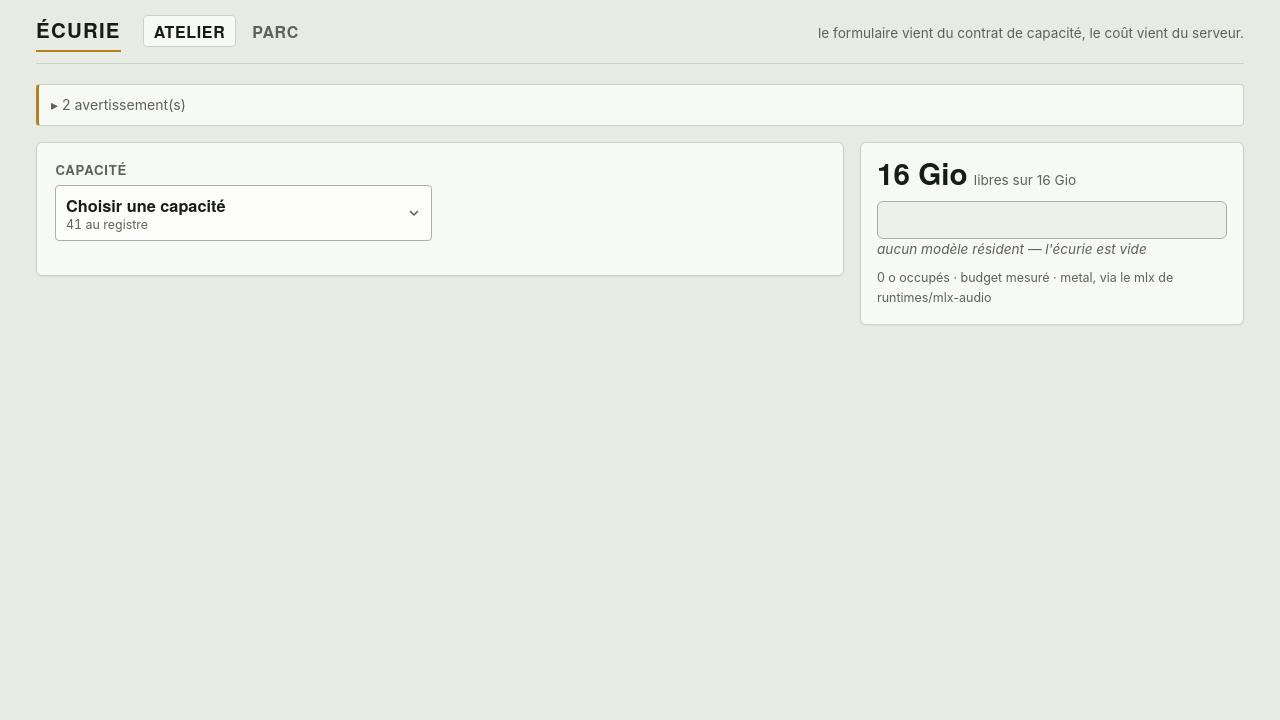
Test: la navigation entre les deux écrans › l_atelier est l_ecran d_ouverture, le parc est a un clic
Expected: the button labelled "Choisir une capacité 41 au registre" is shown, [55,185,432,241]
Expected: the text "Trois chiffres" is not shown
Click the button "Parc": (276, 31) [242,15,310,47]
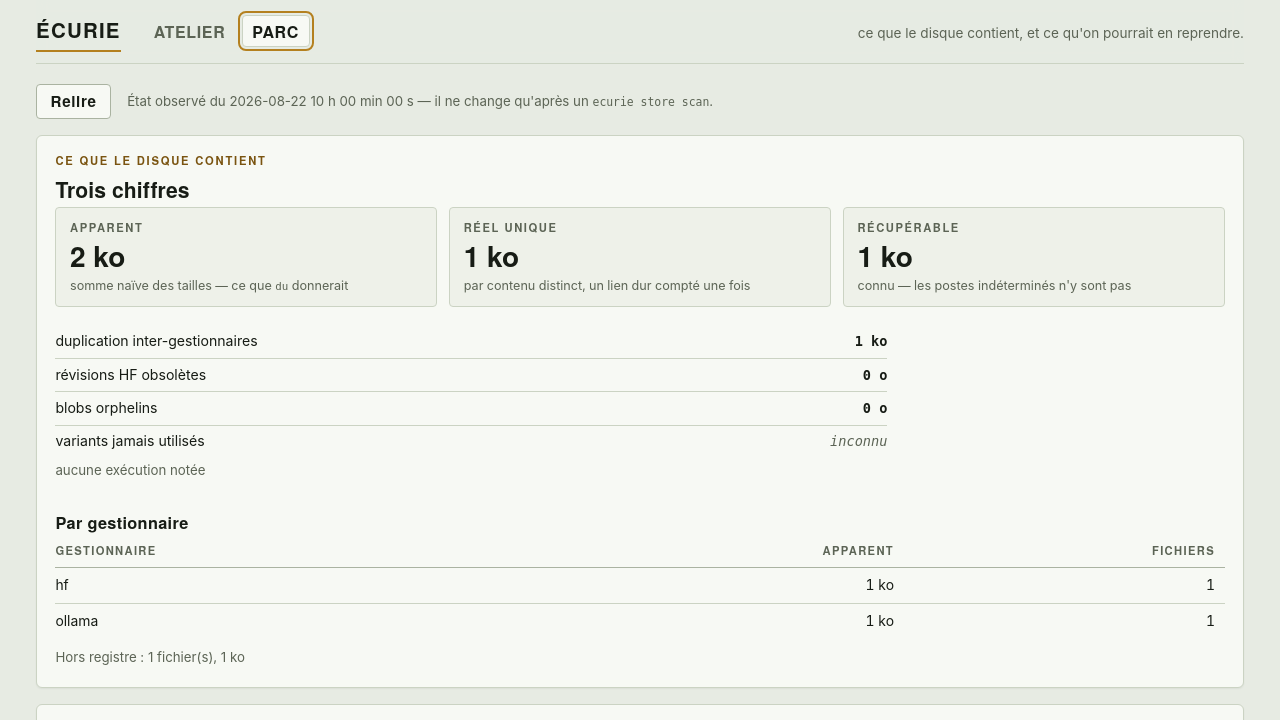
Result: the heading "Trois chiffres" is shown at [55,174,190,204]
Result: the text labelled "capacité" is gone
